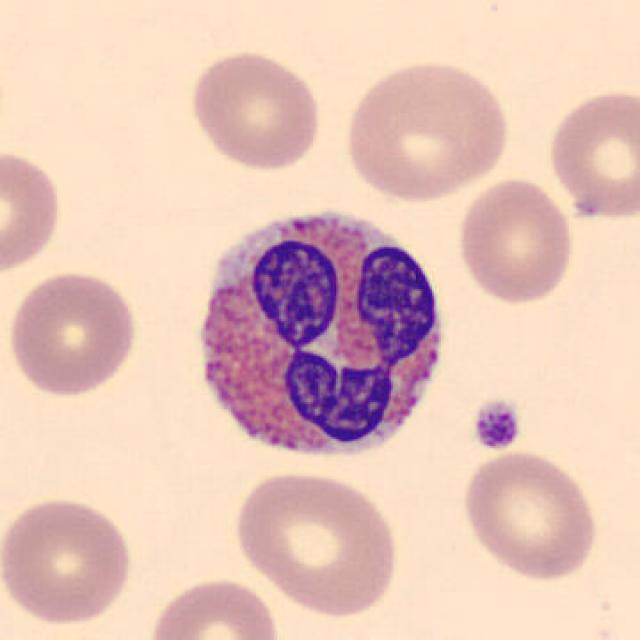Eosinophil: (181, 194, 459, 478)
Platelets: (468, 395, 524, 453)
RBC: (228, 466, 404, 620), (340, 54, 514, 204), (457, 448, 601, 584), (0, 492, 139, 629), (4, 266, 142, 400), (185, 48, 325, 174), (453, 175, 578, 306), (542, 85, 638, 224), (143, 573, 284, 640), (0, 144, 66, 280)
